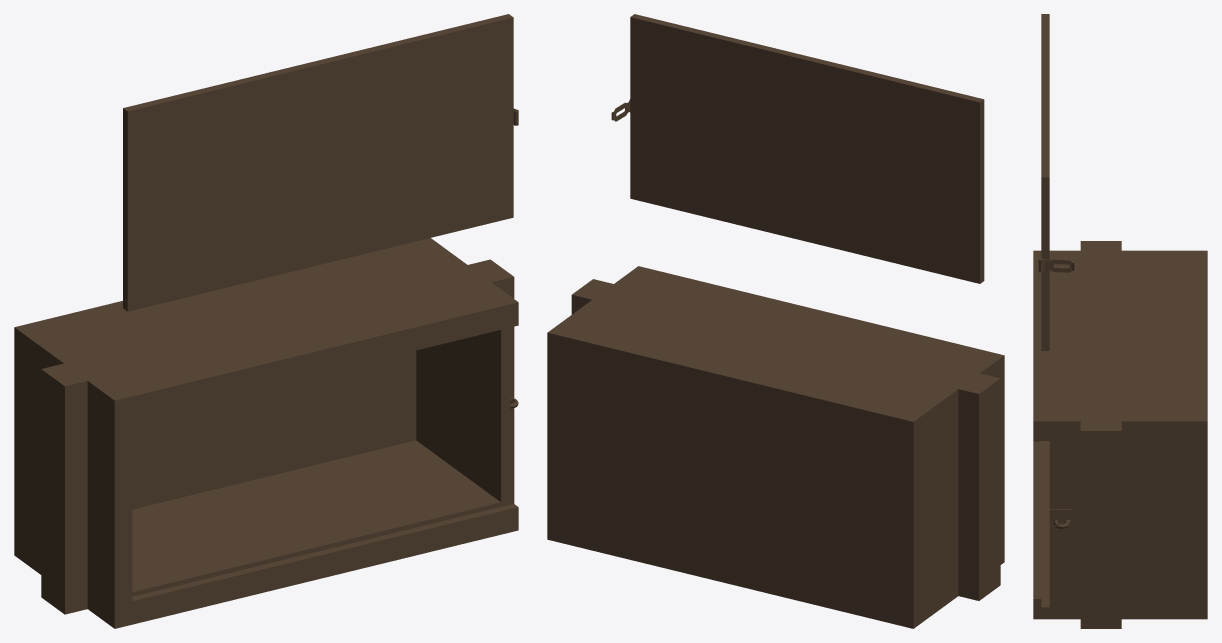
3 renders of one model, left to right at view 1: azimuth 30°, elevation 25°; view 2: azimuth 150°, elevation 25°; view 3: azimuth 270°, elevation 25°, orthographic. The views are drawn at different scales.
Parts seen in each view (by area): view 1: product-4bac460b-5294-495d-825c-2c5b6fbb5115-body; view 2: product-4bac460b-5294-495d-825c-2c5b6fbb5115-body; view 3: product-4bac460b-5294-495d-825c-2c5b6fbb5115-body.
Boxes of the visible parts, box(x1,y1,x2,y2) form: product-4bac460b-5294-495d-825c-2c5b6fbb5115-body: box(14, 14, 518, 628); product-4bac460b-5294-495d-825c-2c5b6fbb5115-body: box(547, 14, 1004, 628); product-4bac460b-5294-495d-825c-2c5b6fbb5115-body: box(1033, 14, 1207, 628).
Size of the model in its own units: 0.3104 by 0.3365 by 0.1201.
